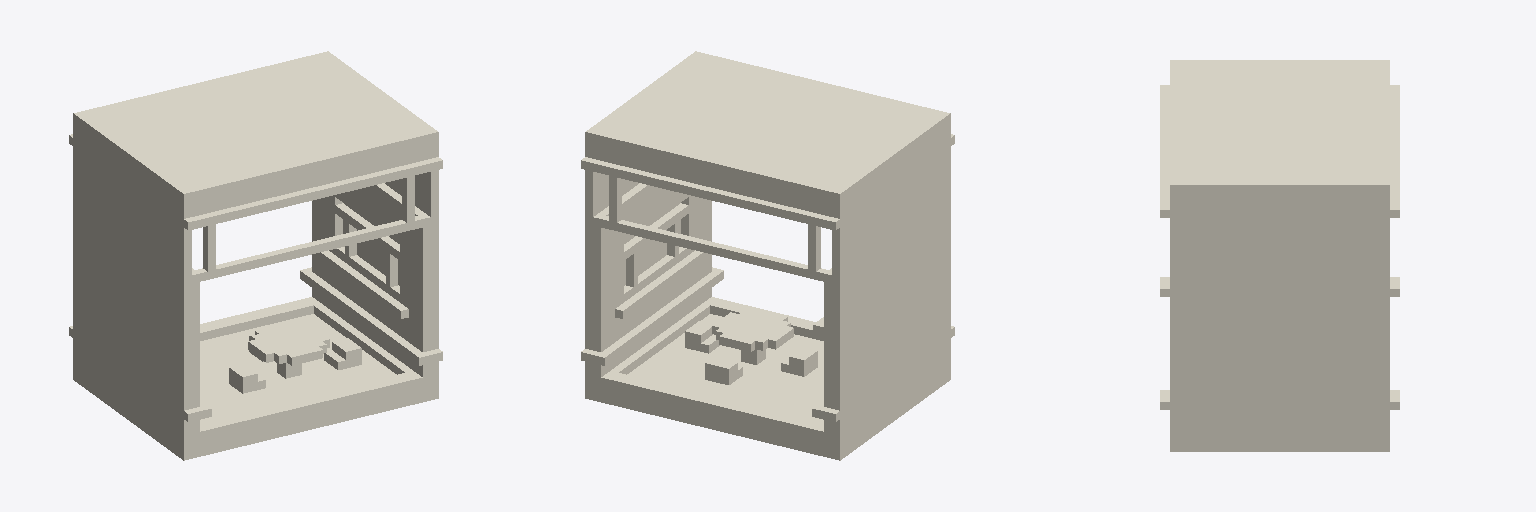
3 renders of one model, left to right at view 1: azimuth 30°, elevation 25°; view 2: azimuth 150°, elevation 25°; view 3: azimuth 270°, elevation 25°, orthographic.
Visible parts, largest first — view 1: object 1; view 2: object 1; view 3: object 1.
Boxes of the visible parts, <box> form: object 1: <box>69,51,442,460</box>; object 1: <box>581,51,954,460</box>; object 1: <box>1160,60,1399,451</box>.
Bounding box in the file's own units: 3.2 × 3.2 × 2.6.
1 materials, 1 textured.